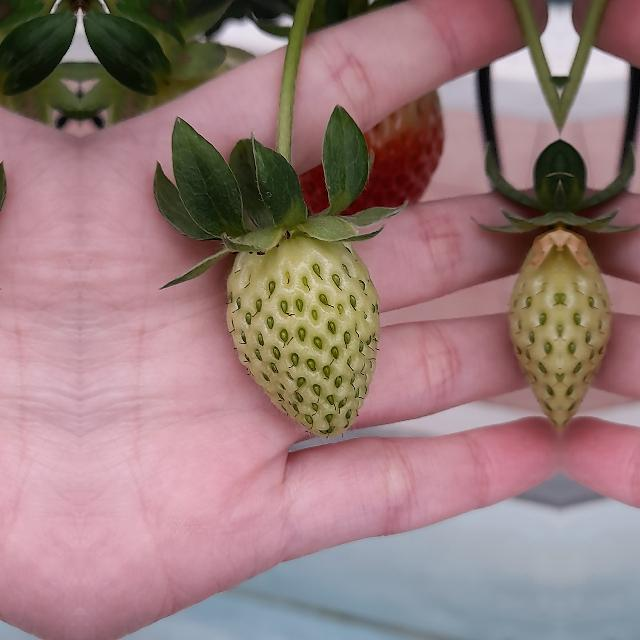Health_25: (226, 236, 380, 437)
